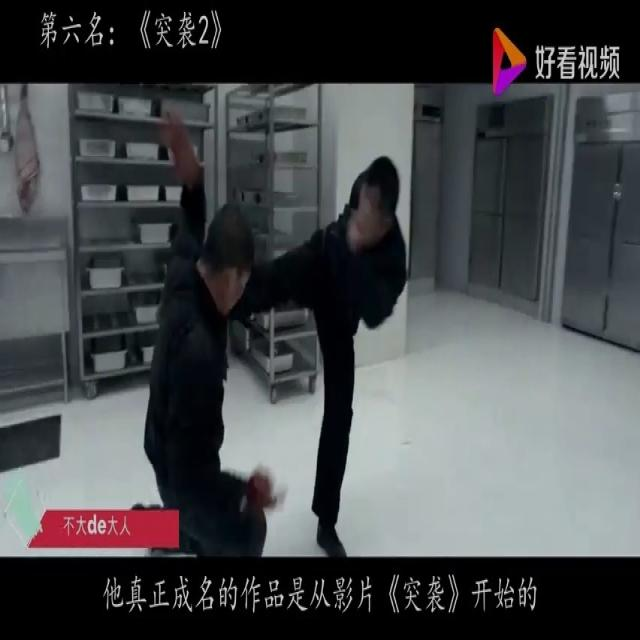fight: (145, 100, 425, 561)
